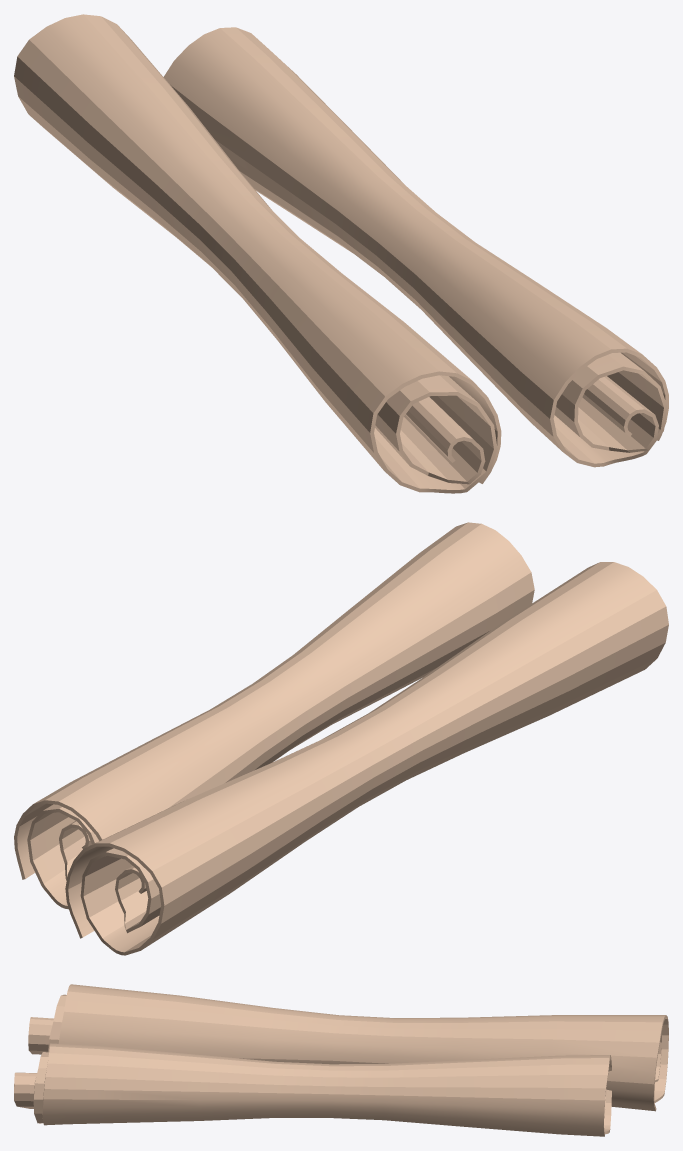
File: ScrollsMultiTwo.fbx
3 renders of one model, top to bottom at view 1: azimuth 30°, elevation 25°; view 2: azimuth 150°, elevation 25°; view 3: azimuth 270°, elevation 25°, orthographic. The views are drawn at different scales.
Parts seen in each view (by area): view 1: TwoScrolls; view 2: TwoScrolls; view 3: TwoScrolls.
Part boxes in pixels (x1,y1,x2,y2): TwoScrolls: [14, 14, 668, 493]; TwoScrolls: [14, 522, 668, 955]; TwoScrolls: [14, 984, 668, 1136].
Size of the model in its own units: 20.35 by 7.67 by 56.49.
